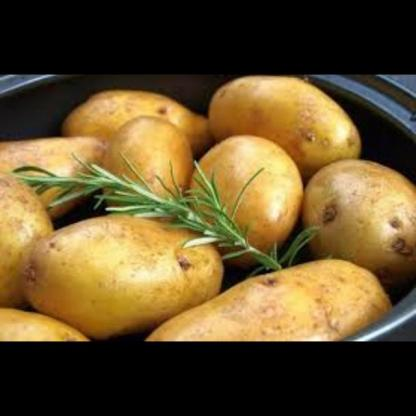potato: (16, 215, 239, 319), (155, 253, 383, 341), (204, 75, 367, 175), (296, 162, 416, 286), (184, 130, 302, 252), (0, 154, 66, 320), (100, 105, 191, 225), (64, 74, 235, 137), (0, 131, 115, 219), (0, 296, 103, 340)
